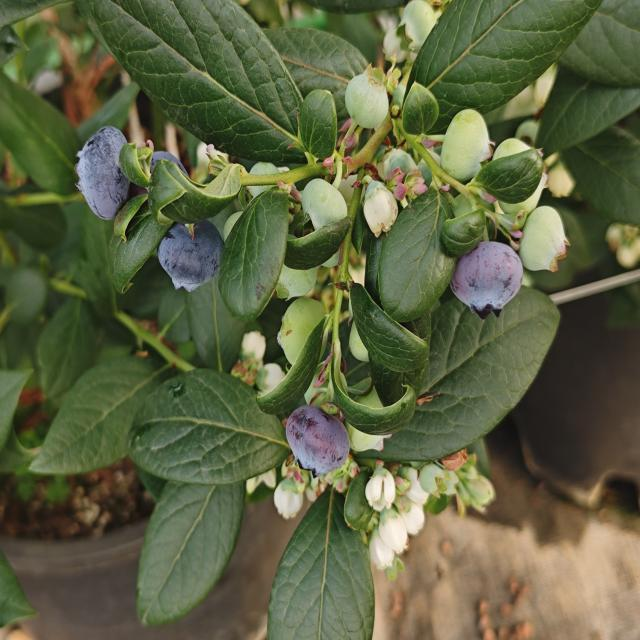ripe: (448, 238, 525, 322), (72, 124, 132, 224), (155, 217, 226, 296), (283, 402, 352, 481)
